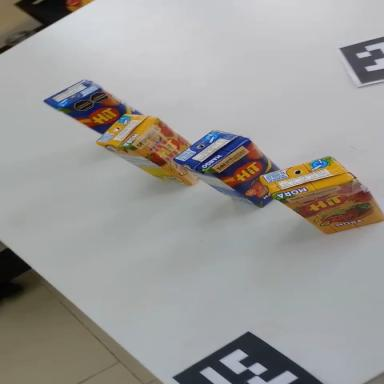HIT-MANGO: (173, 110, 293, 220), (44, 66, 142, 150)
HIT-MORA: (257, 132, 384, 262), (96, 98, 213, 206)
cara_F: (279, 175, 384, 244), (207, 134, 292, 217), (130, 116, 213, 192), (60, 76, 136, 148)
